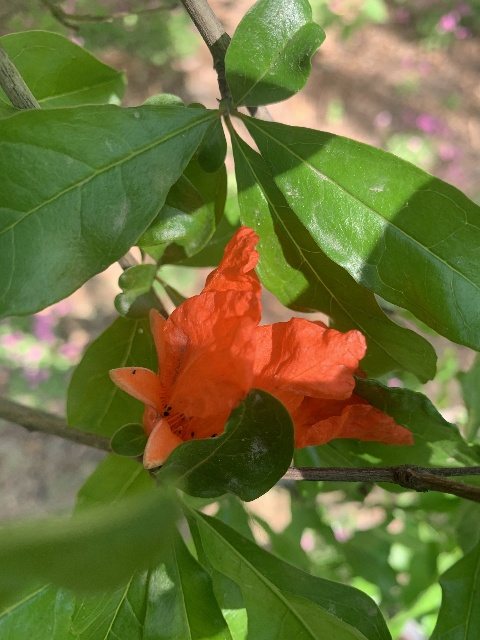flower: (109, 224, 413, 472)
